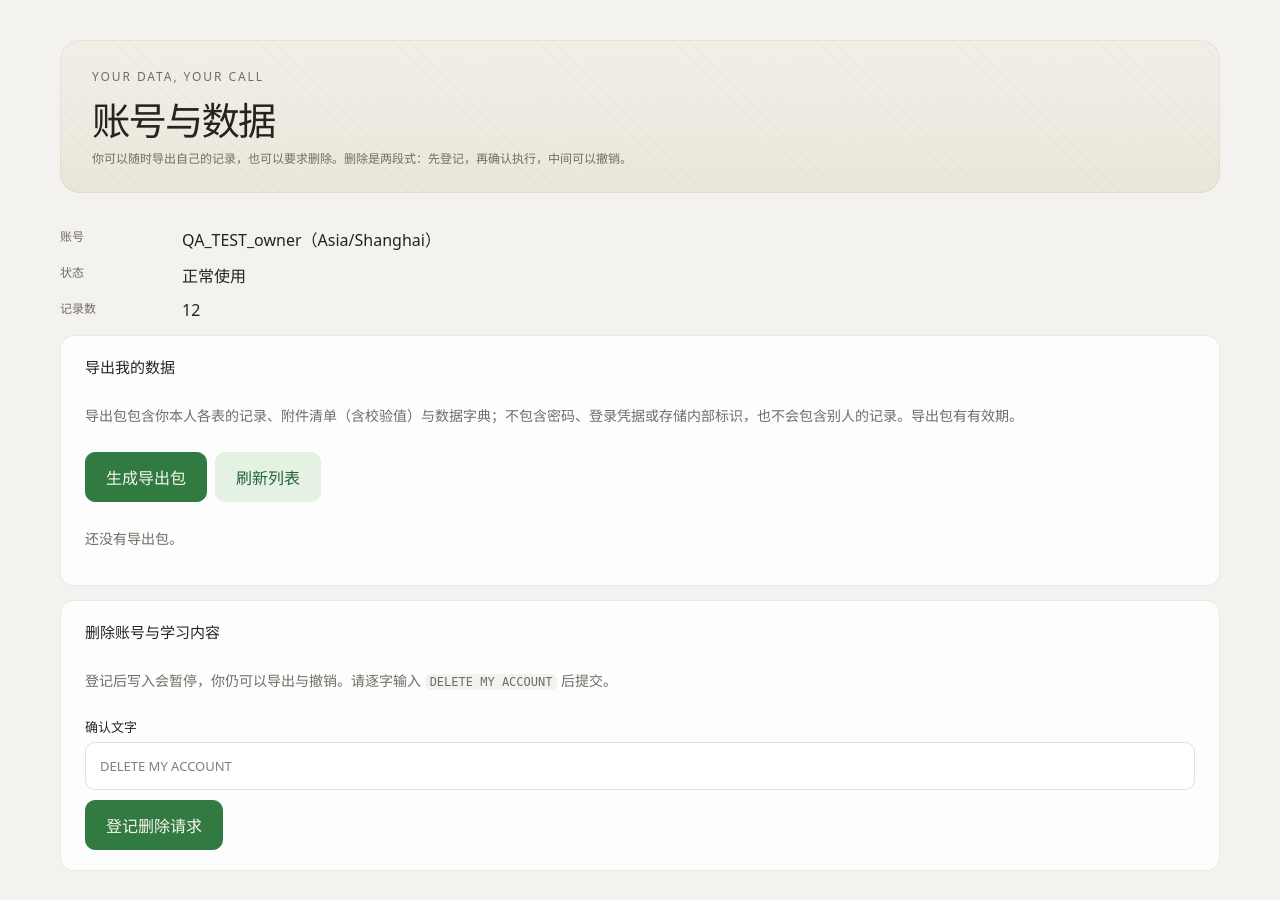
Test: account data sovereignty › reports what deletion removes and requires the exact confirmation phrase
In the field labelled "确认文字": (640, 766) [85,742,1195,790], type "delete"
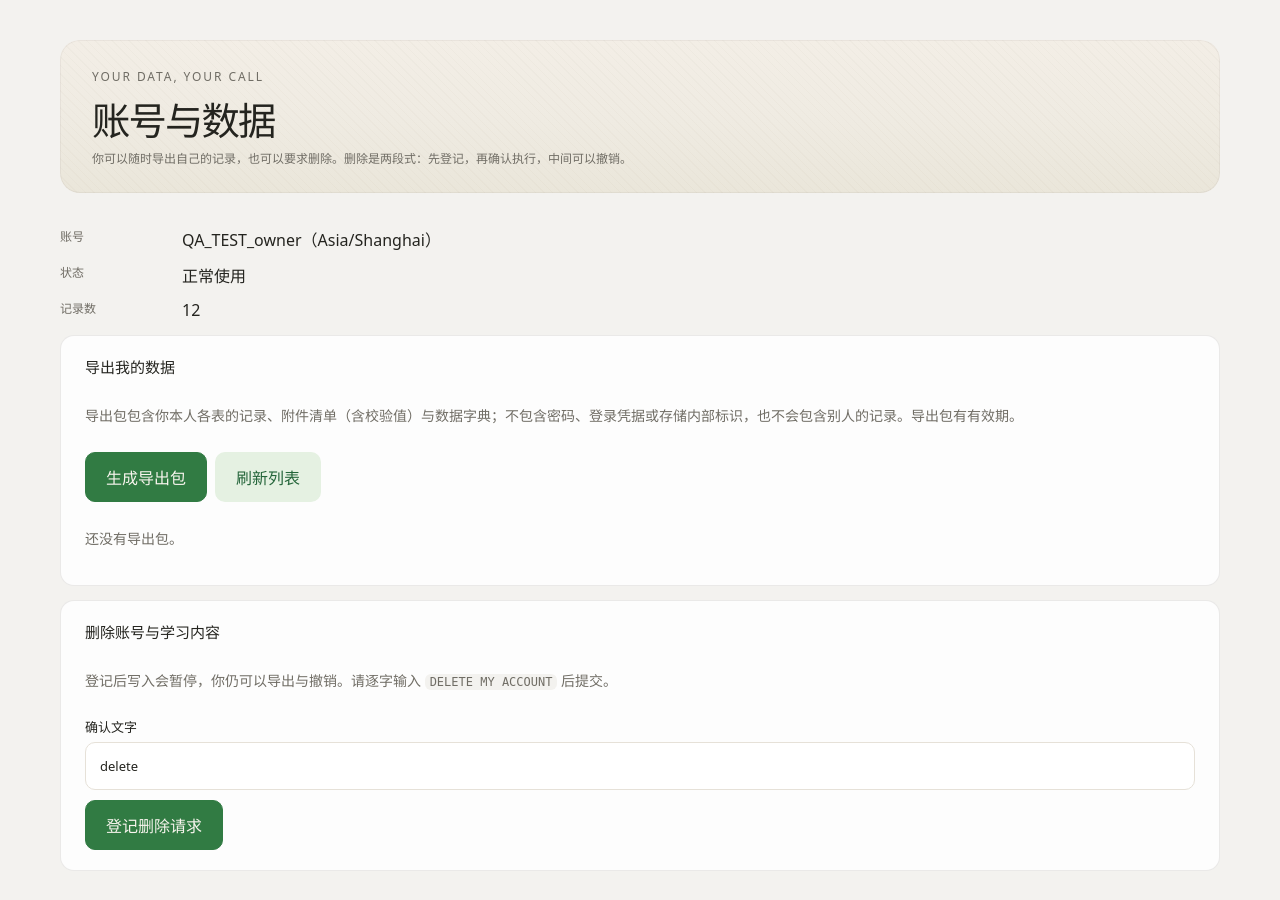
Click the button "登记删除请求": (154, 825) [85,800,223,850]
(page scrolled)
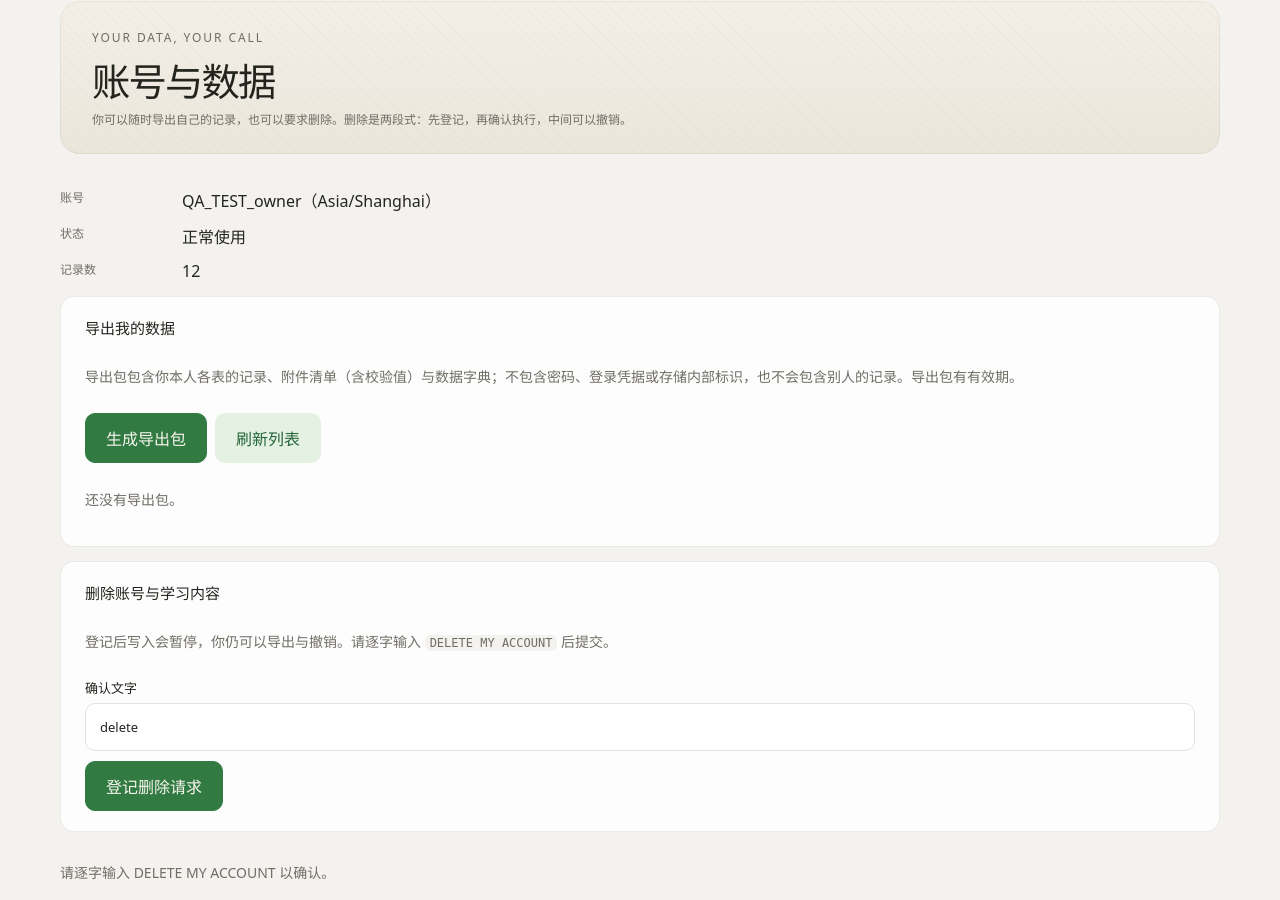
Result: the text "请逐字输入 DELETE MY ACCOUNT 以确认。" is shown at [60,863,335,882]
